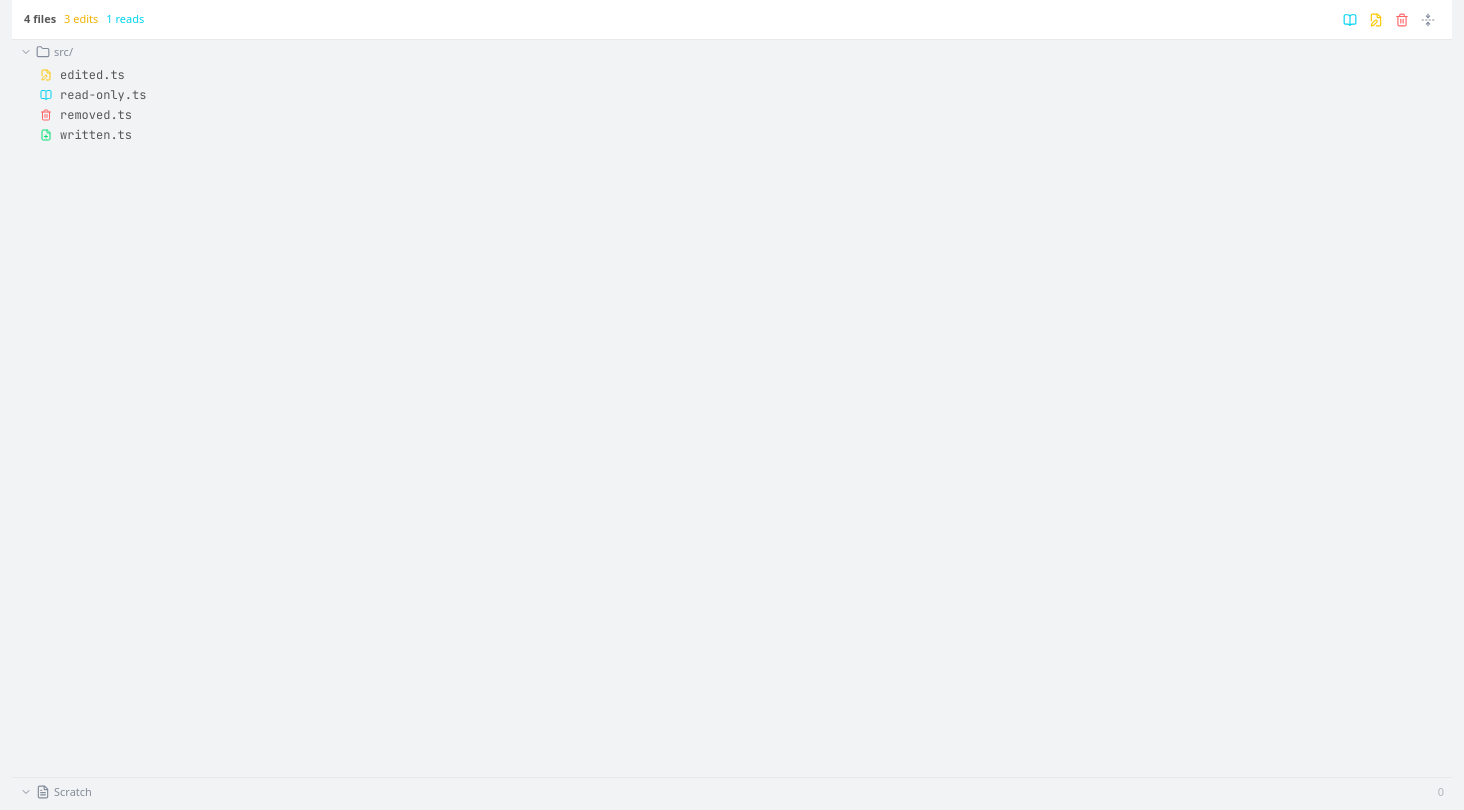
FileAccessTree kind toggles › hiding reads removes read-only files and mutes the icon
Click the button named "Hide reads" at {"x": 1350, "y": 20}, box x1=1338 y1=8 x2=1362 y2=32
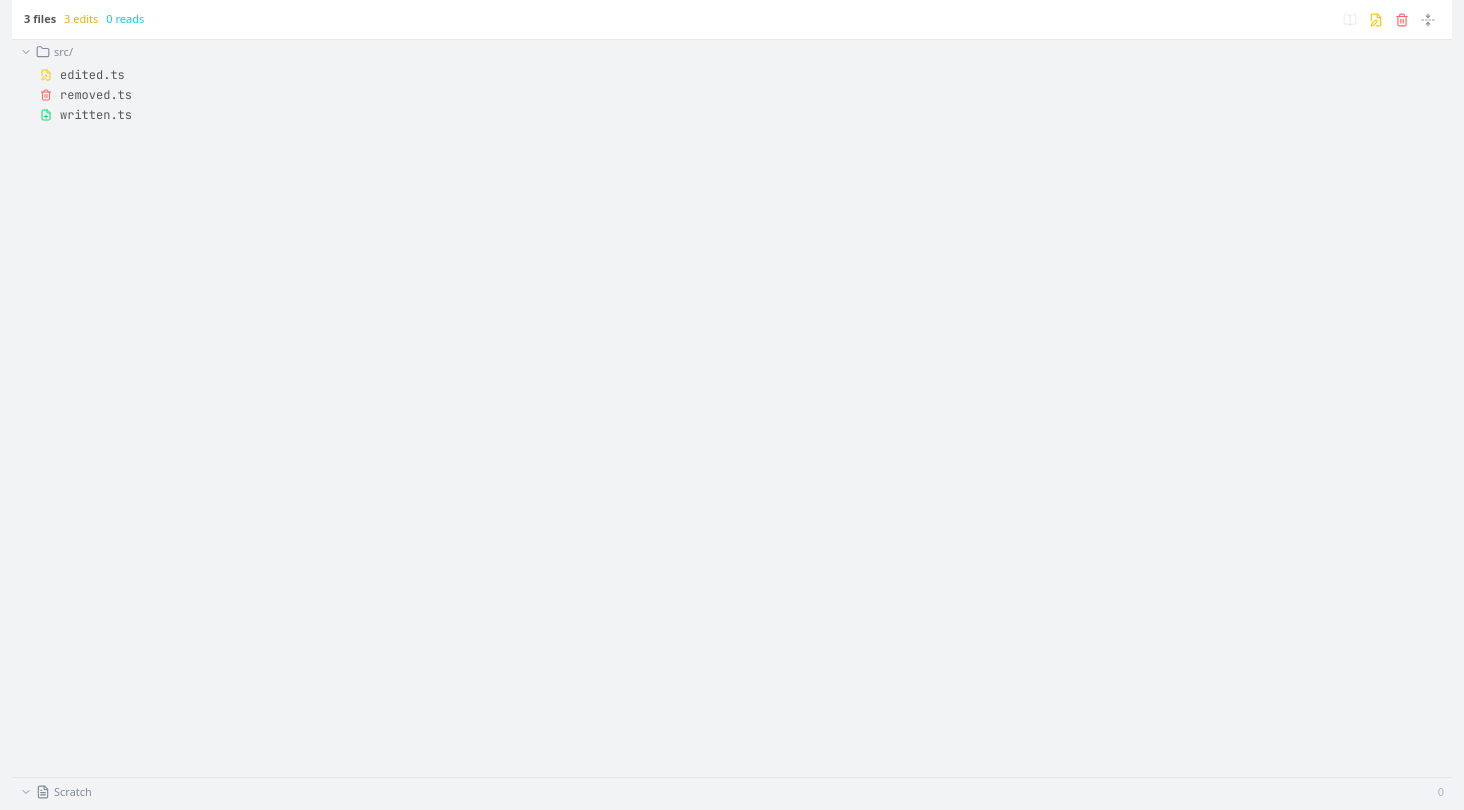
Expected: the text "edited.ts" is shown, x1=60 y1=66 x2=125 y2=82
Expected: the button "read-only.ts" is gone
